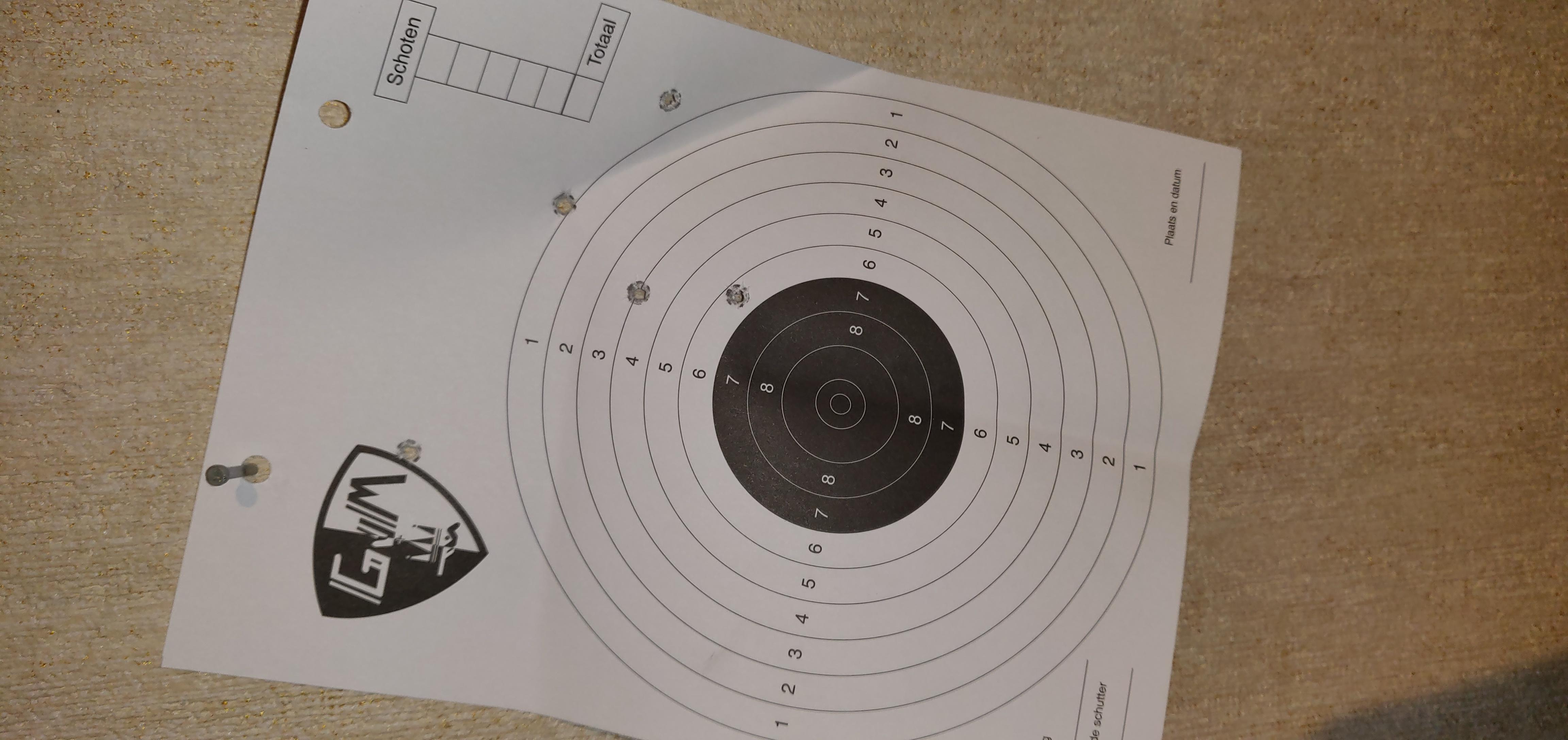hole: (580, 186, 639, 200), (1108, 260, 1170, 273), (912, 342, 970, 354), (922, 295, 976, 307), (1329, 311, 1381, 322)
